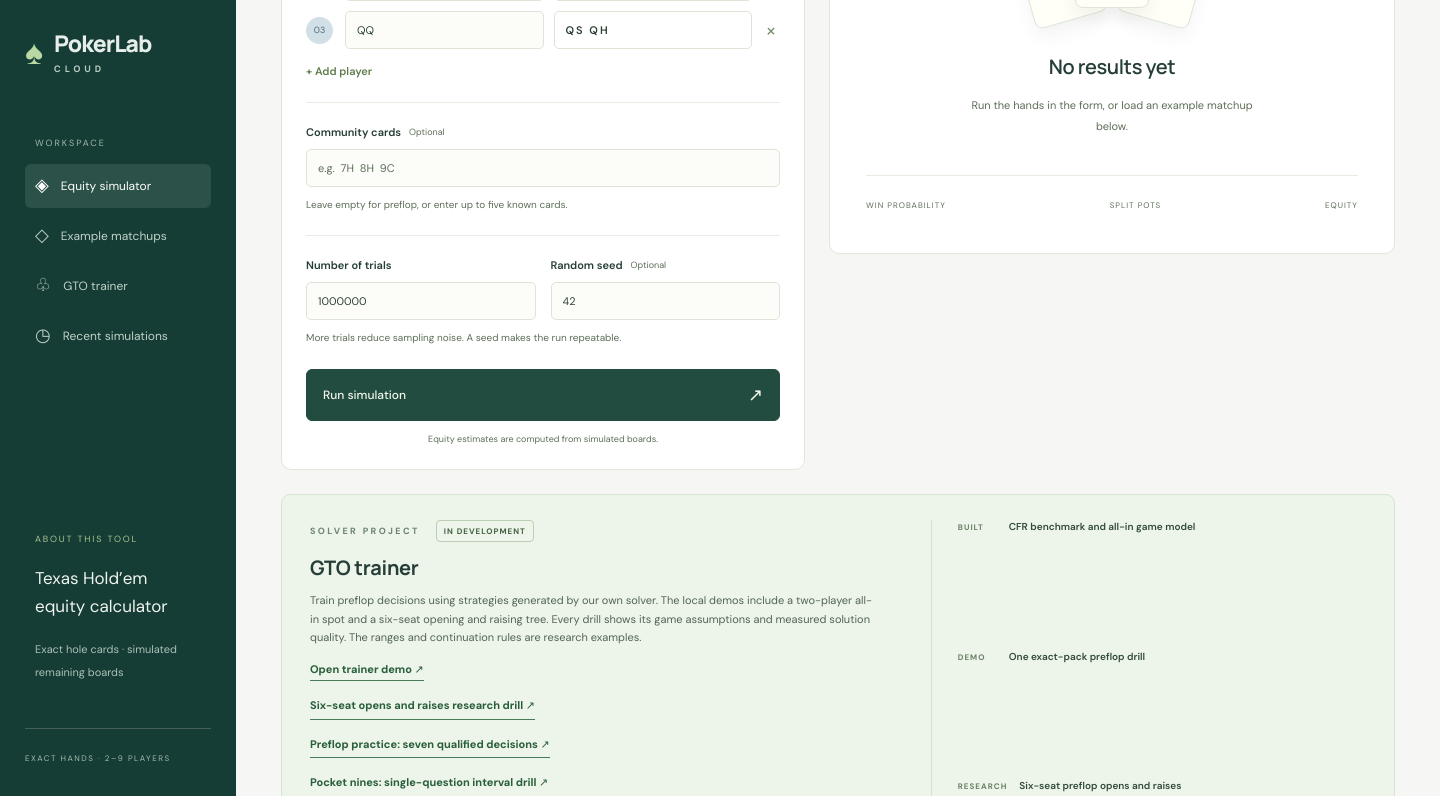
Test case: shows actionable API errors
(page scrolled)
Click the button "Run simulation ↗" at x=364, y=395, box [306,369,780,421]
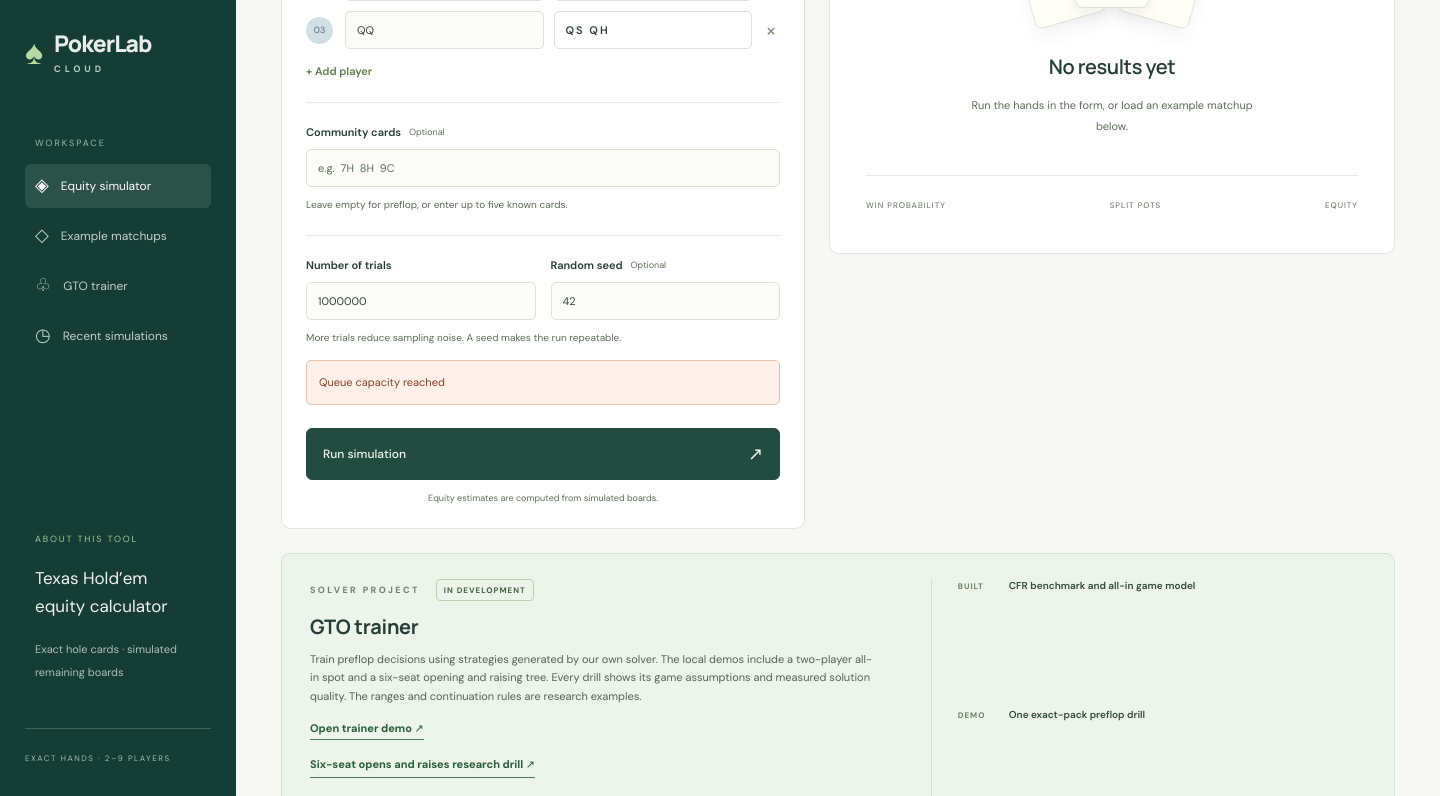
Result: the message reads "Queue capacity reached" at [319,375,445,389]
